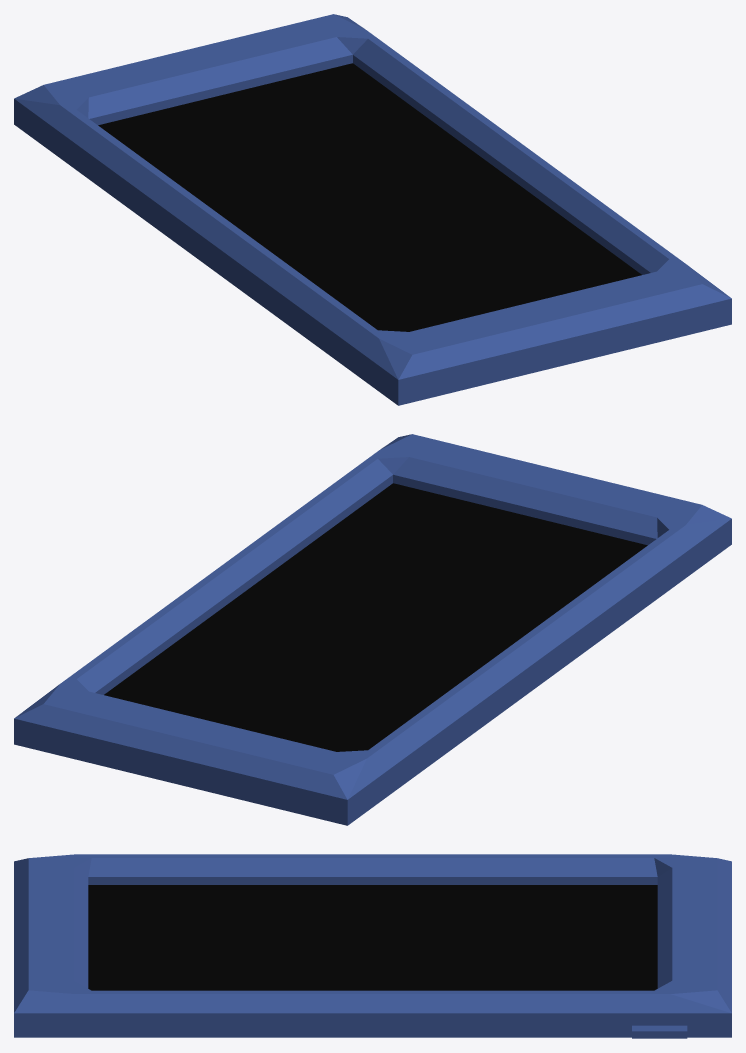
File: log diary.fbx
3 views of the same model, one above another, from view 1: azimuth 30°, elevation 25°; view 2: azimuth 150°, elevation 25°; view 3: azimuth 270°, elevation 25° (orthographic). The views are drawn at different scales.
Parts seen in each view (by area): view 1: Cube; view 2: Cube; view 3: Cube.
Part boxes in pixels (x1=…): Cube: x1=14, y1=14, x2=731, y2=405; Cube: x1=14, y1=434, x2=731, y2=825; Cube: x1=14, y1=854, x2=731, y2=1038.
Size of the model in its own units: 207 by 22.92 by 399.
